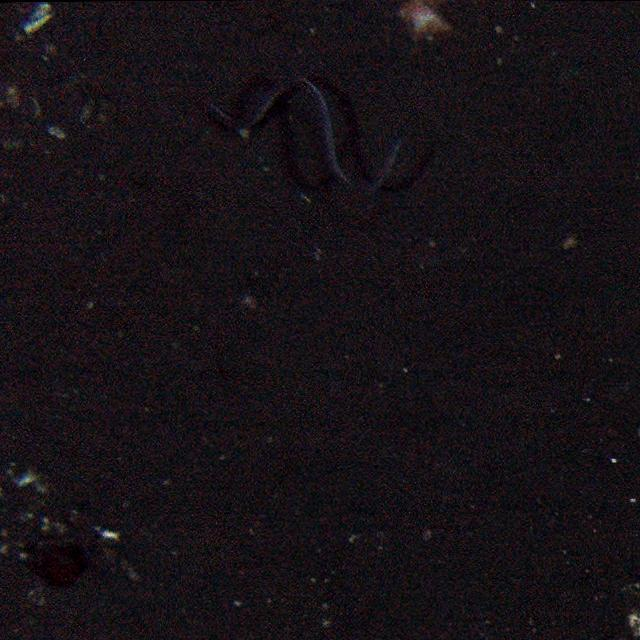eel: (204, 73, 397, 204)
